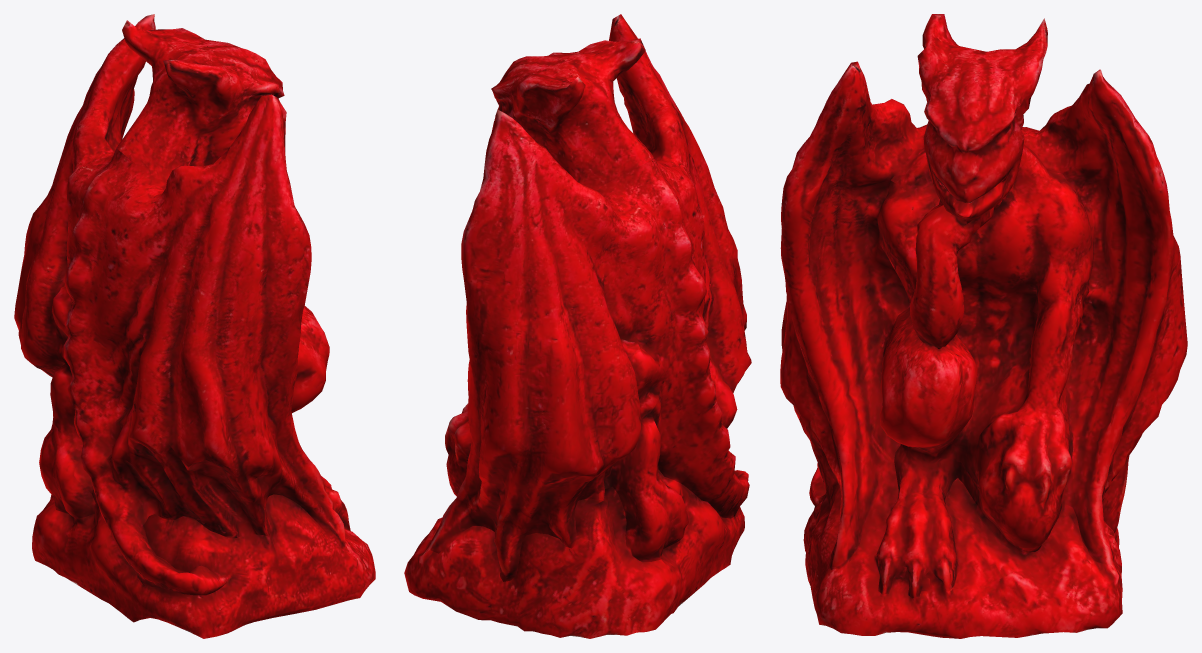
The model's file is gargoyle_red.glb.
The picture shows the model from 3 angles, left to right: view 1: azimuth 30°, elevation 25°; view 2: azimuth 150°, elevation 25°; view 3: azimuth 270°, elevation 25°; orthographic projection. The views are drawn at different scales.
Visible parts, largest first — view 1: defaultMaterial; view 2: defaultMaterial; view 3: defaultMaterial.
Part boxes in pixels (left/top/right/bottom): defaultMaterial: left=14, top=14, right=375, bottom=638; defaultMaterial: left=404, top=14, right=751, bottom=638; defaultMaterial: left=780, top=14, right=1187, bottom=638.
Size of the model in its own units: 0.2292 by 0.4541 by 0.3055.
1 material, 1 textured.
